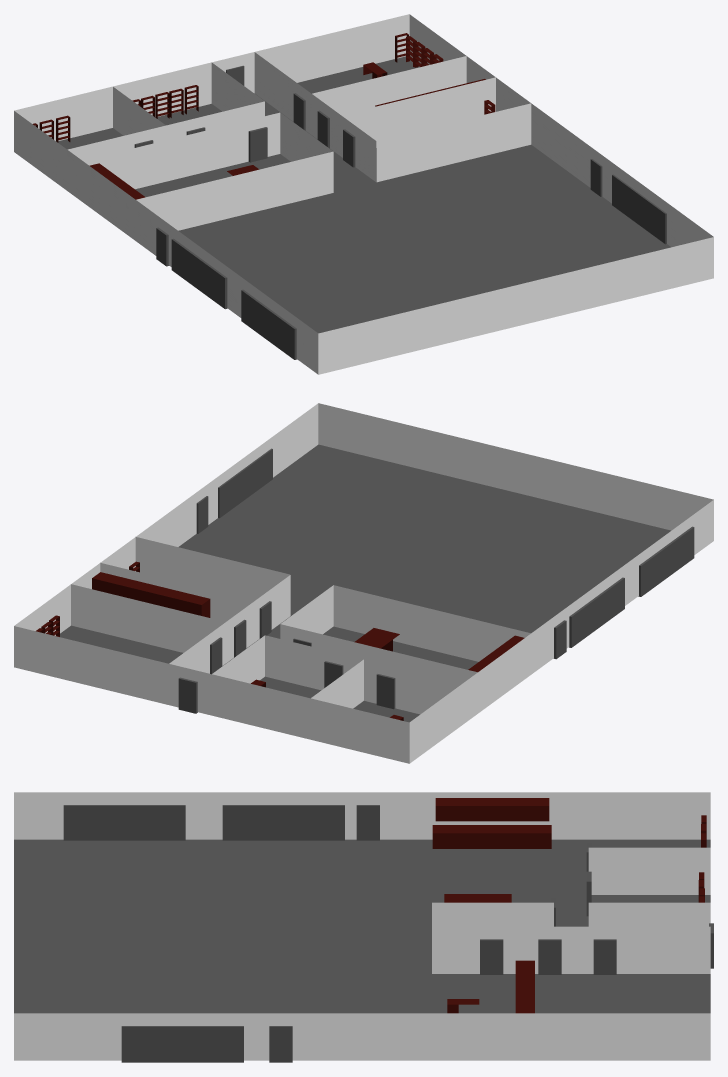
Rendered from Maintenance Building.glb.
The picture shows the model from 3 angles, top to bottom: view 1: azimuth 30°, elevation 25°; view 2: azimuth 150°, elevation 25°; view 3: azimuth 270°, elevation 25°; orthographic projection. The views are drawn at different scales.
Visible parts, largest first — view 1: Floor, Wall.001, Wall, Wall.002, Wall.008, Wall.003, Wall.004, Wall.011, Wall.012, Wall.010, Wall.013, Wall.005 (+7 smaller); view 2: Floor, Wall, Wall.001, Wall.002, Wall.003, Wall.008, Wall.005, Wall.013, Wall.011, Wall.010, Wall.004, Cube (+10 smaller); view 3: Floor, Wall.003, Wall.002, Wall.010, Wall.006, Door.008, Door.009, Door.010, Wall.007, Wall.009, Counter, Cabinet (+7 smaller).
Part boxes in pixels (box(x1,y1,x2,y2)): Floor: box(58, 56, 670, 333); Wall.001: box(318, 237, 713, 374); Wall: box(14, 14, 409, 140); Wall.002: box(14, 111, 318, 374); Wall.008: box(136, 151, 333, 230); Wall.003: box(409, 14, 713, 247); Wall.004: box(83, 112, 280, 189); Wall.011: box(376, 103, 531, 182); Wall.012: box(341, 77, 495, 147); Wall.010: box(254, 52, 376, 181); Wall.013: box(312, 56, 466, 114); Wall.005: box(67, 101, 264, 160); Floor: box(60, 444, 670, 722); Wall: box(14, 626, 409, 763); Wall.001: box(318, 403, 713, 530); Wall.002: box(409, 500, 713, 763); Wall.003: box(14, 403, 318, 635); Wall.008: box(333, 585, 530, 661); Wall.005: box(265, 635, 462, 714); Wall.013: box(71, 584, 225, 652); Wall.011: box(135, 537, 289, 600); Wall.010: box(169, 575, 290, 673); Wall.004: box(280, 624, 477, 683); Cube: box(92, 572, 210, 617); Floor: box(14, 839, 710, 1013); Wall.003: box(14, 1013, 710, 1060); Wall.002: box(14, 792, 710, 839); Wall.010: box(432, 926, 710, 973); Wall.006: box(588, 847, 710, 894); Door.008: box(121, 1026, 243, 1062); Door.009: box(222, 805, 344, 840); Door.010: box(63, 805, 185, 840); Wall.007: box(588, 902, 710, 926); Wall.009: box(432, 902, 553, 926); Counter: box(432, 825, 551, 848); Cabinet: box(435, 798, 549, 821).
Size of the model in its own units: 30.35 by 3.05 by 40.19.
